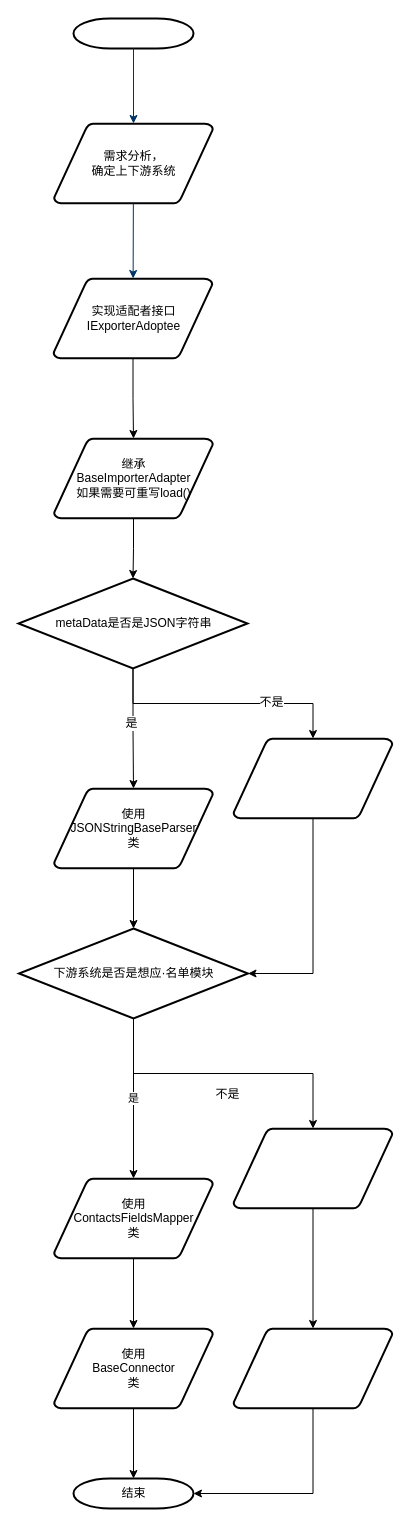
This 410x1526 diagram has some shape labels left out. Here are the shapes that lost their labels. From the top down, the centre of each, then its label:
At (133,33): "开始".
At (312,778): "继承 BaseParser 并重写parseMetaData()".
At (312,1168): "继承 BaseFieldsMapper 并重写mapping()".
At (312,1368): "继承 BaseConnector 并重写 importToDownstream()".
